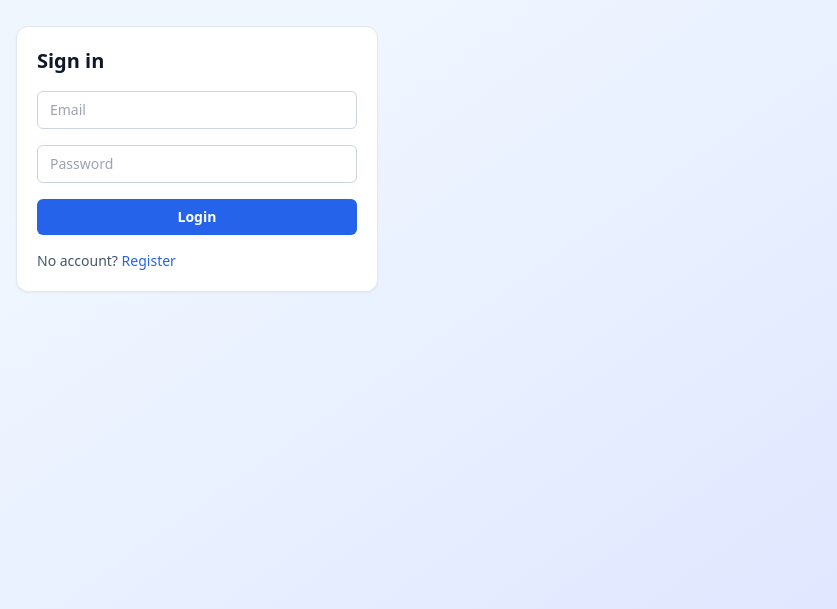
Scenario: LoginPage › shows validation feedback for invalid password input
Step 1. Type "investor@example.com" into the field with placeholder "Email" → (197, 110), box [37,91,357,129]
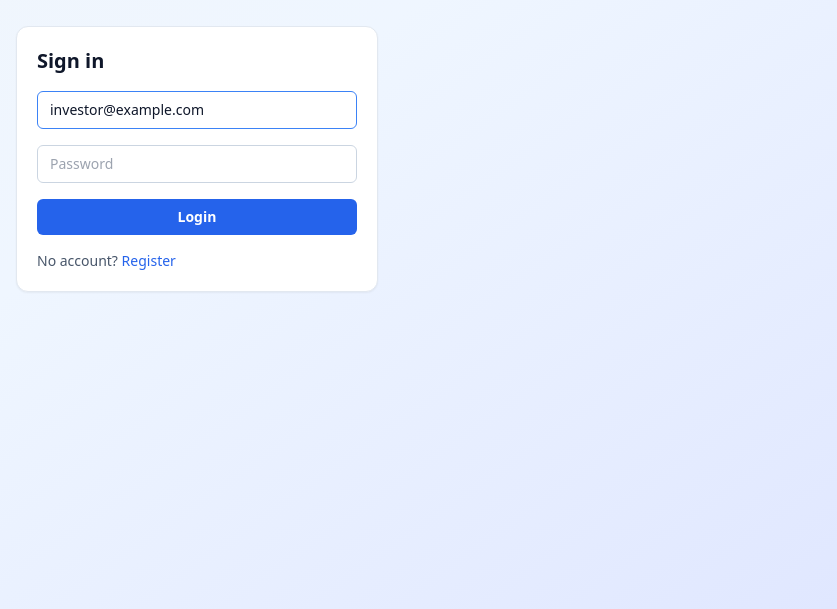
Step 2. Type "short" into the password field with placeholder "Password" → (197, 164), box [37,145,357,183]
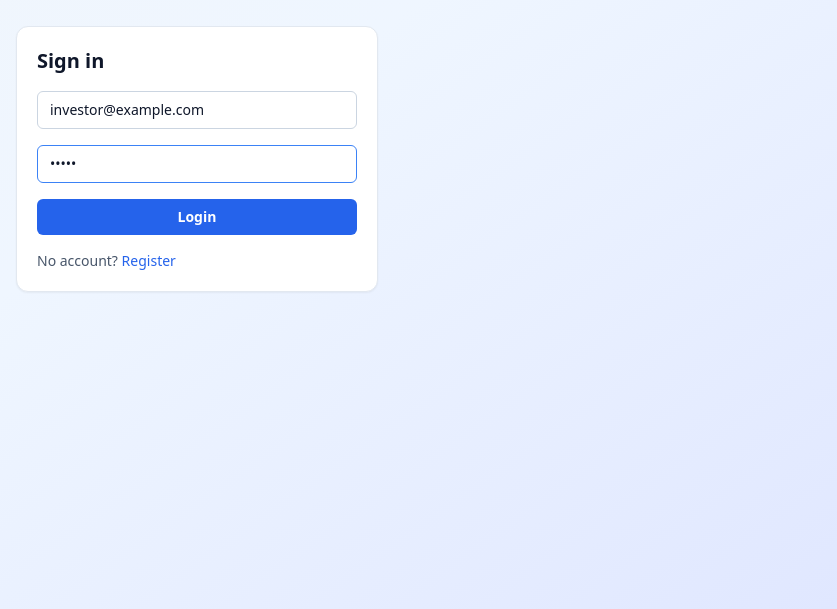
Step 3. Click the button "Login" → (197, 217), box [37,199,357,235]
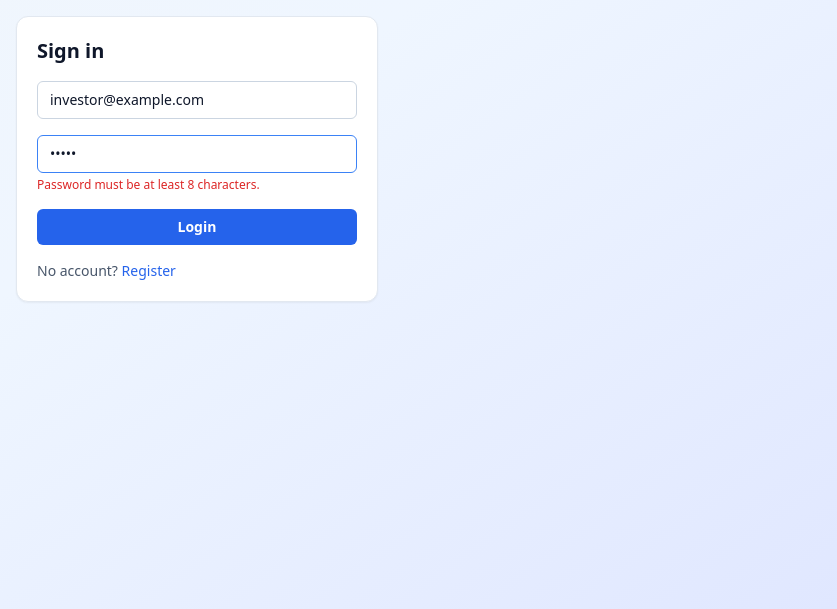
Expected: the text "Password must be at least 8 characters." is shown, [37,176,260,193]
